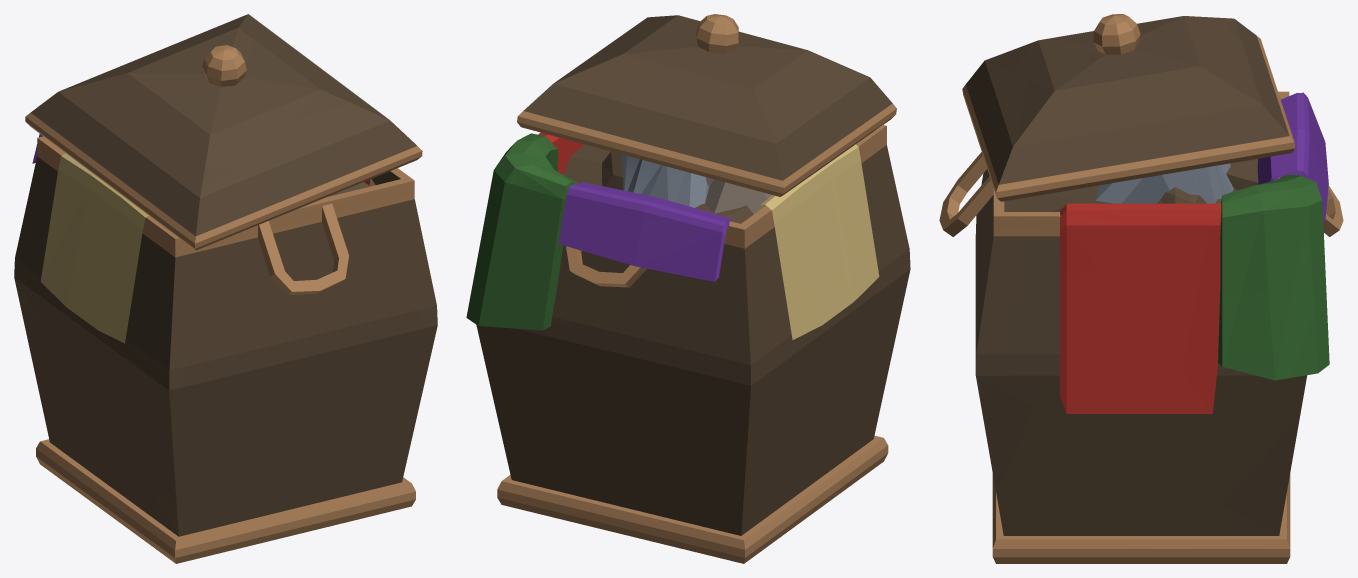
File: SM_Basket_03.glb
3 views of the same model, side by side, from view 1: azimuth 30°, elevation 25°; view 2: azimuth 150°, elevation 25°; view 3: azimuth 270°, elevation 25° (orthographic). The views are drawn at different scales.
Visible parts, largest first — view 1: SM_Basket_03; view 2: SM_Basket_03; view 3: SM_Basket_03.
Part boxes in pixels (x1,y1,x2,y2): SM_Basket_03: (14,14,437,563); SM_Basket_03: (466,14,910,563); SM_Basket_03: (939,14,1343,563).
Bounding box in the file's own units: 0.5071 × 0.7338 × 0.5609.
Materials: 1 (1 with a texture image).
